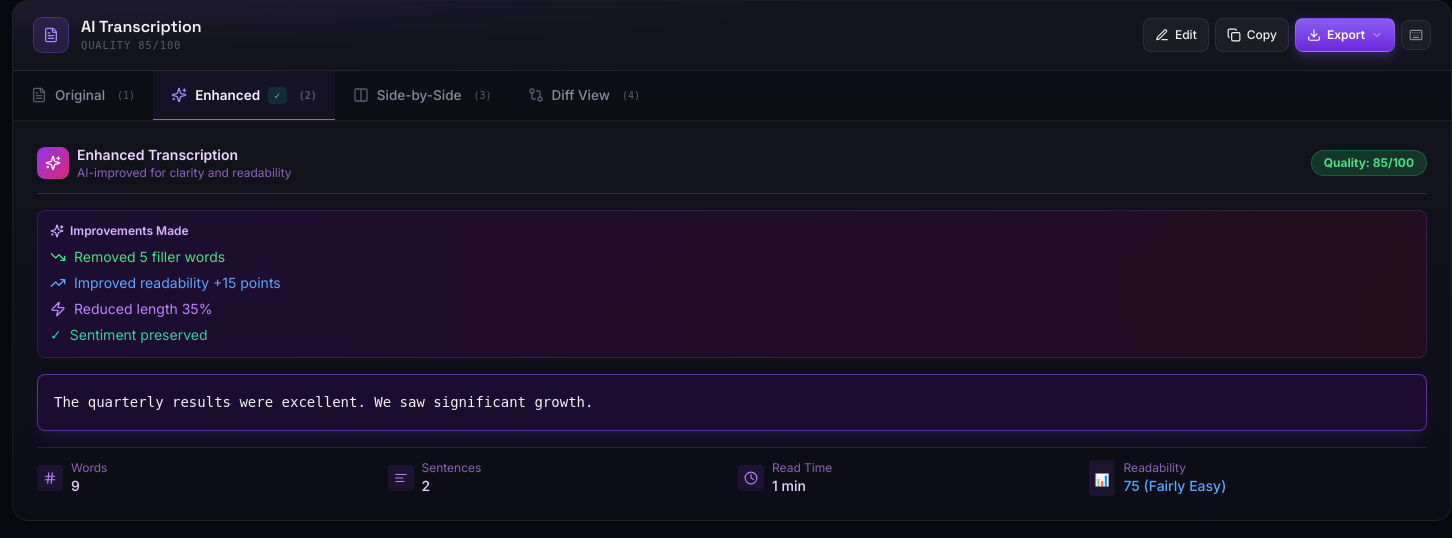
Test: TabbedTranscriptionView › Side-by-Side Tab › shows comparison statistics
Click the tab "Side-by-Side (3)" at coordinates (422, 96), box x1=335 y1=71 x2=510 y2=121
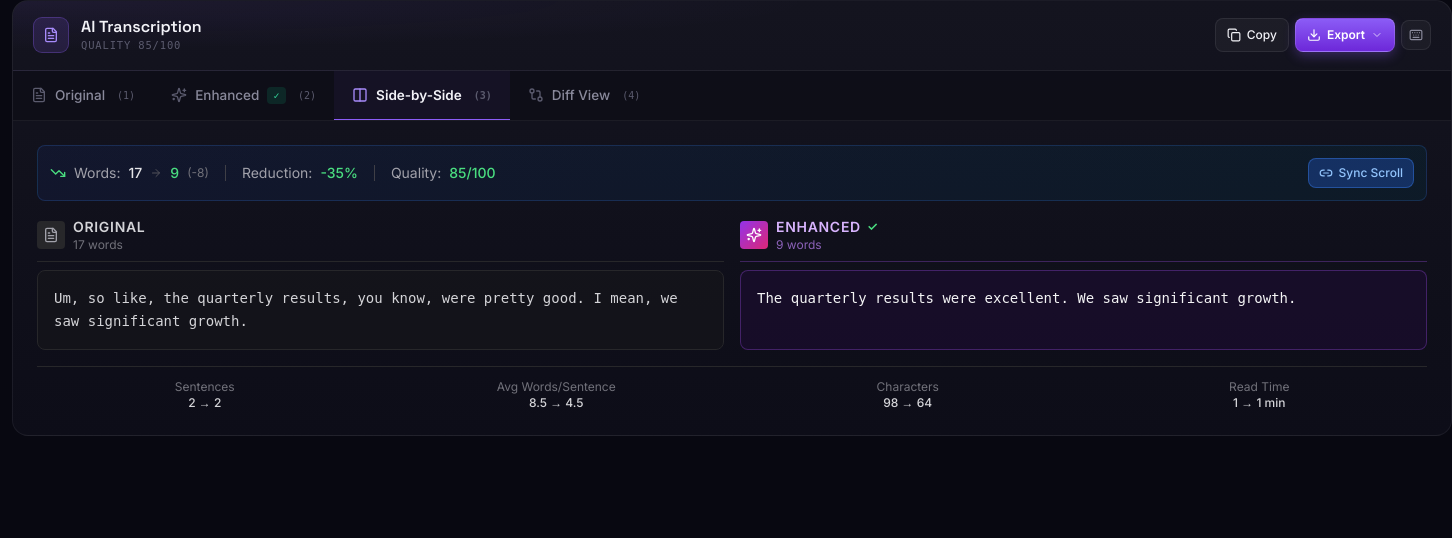
Now the text "Words:" is shown, box x1=74 y1=163 x2=120 y2=183
